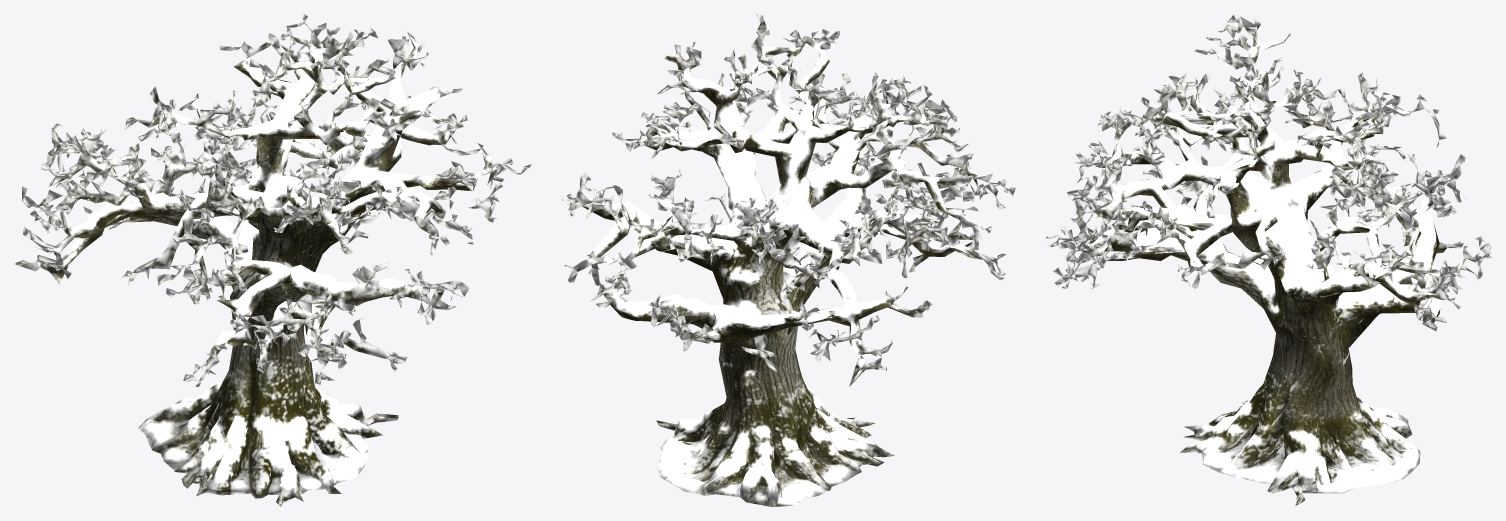
Rendered from kit_erzurum_oak.glb.
3 renders of one model, left to right at view 1: azimuth 30°, elevation 25°; view 2: azimuth 150°, elevation 25°; view 3: azimuth 270°, elevation 25°, orthographic. The views are drawn at different scales.
Visible parts, largest first — view 1: Mesh1.0; view 2: Mesh1.0; view 3: Mesh1.0.
Boxes of the visible parts, left/top/right/bottom form: Mesh1.0: left=15, top=14, right=531, bottom=506; Mesh1.0: left=560, top=14, right=1015, bottom=506; Mesh1.0: left=1045, top=14, right=1491, bottom=506.
Bounding box in the file's own units: 6.48 × 6.5 × 6.64.
Materials: 1 (1 with a texture image).
